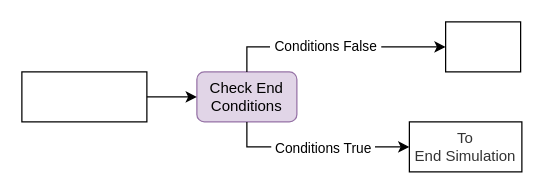
The diagram is 544 pixels wide and 194 high, and some of its shapes have lost their labels. Each missing label, with the centre of its shape:
"From Action Execution" belongs at pixel 84 96.
"To New Step" belongs at pixel 482 46.
